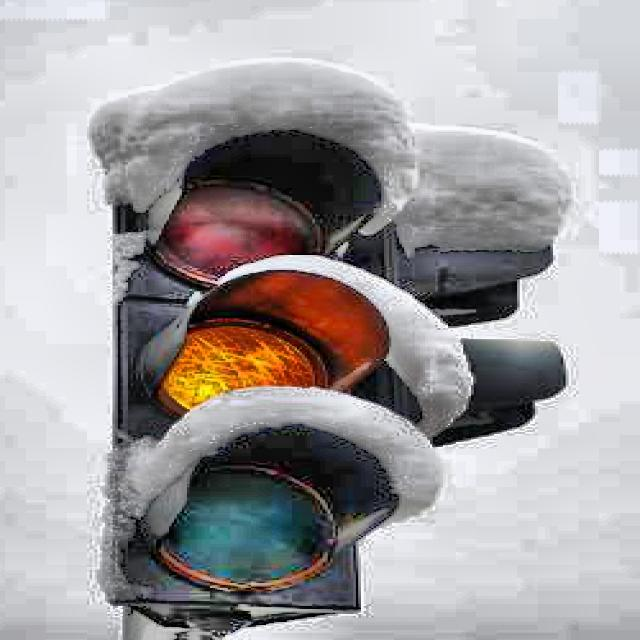yellow: (120, 174, 359, 612)
